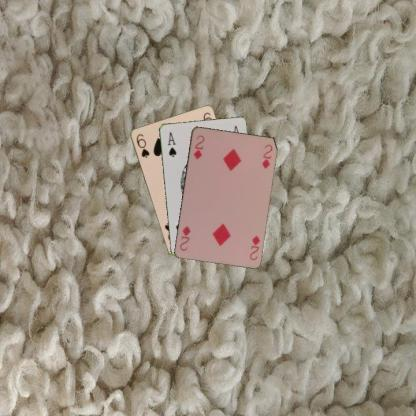2d: (190, 132, 206, 161), (247, 233, 261, 261)
6s: (134, 131, 150, 159)
As: (165, 130, 177, 158)
